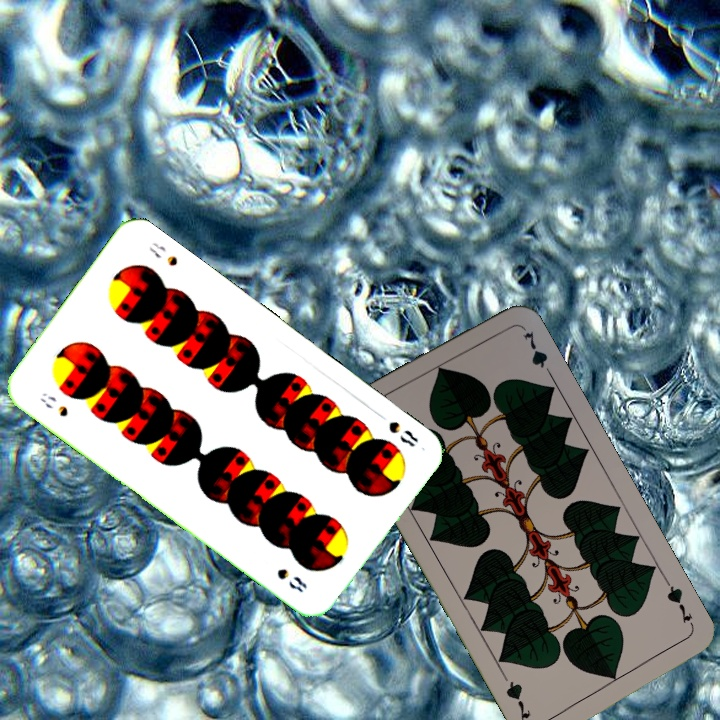G7: (662, 577, 697, 631)
S8: (384, 417, 421, 450), (36, 388, 71, 420)
